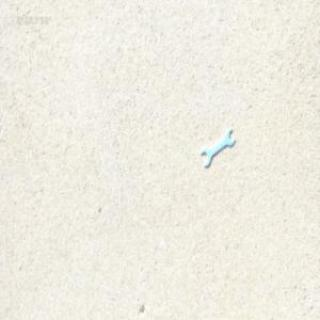Wrenchtrack_idkeyframe: (201, 129, 234, 167)
